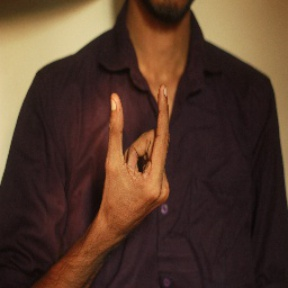U: (94, 77, 186, 229)
